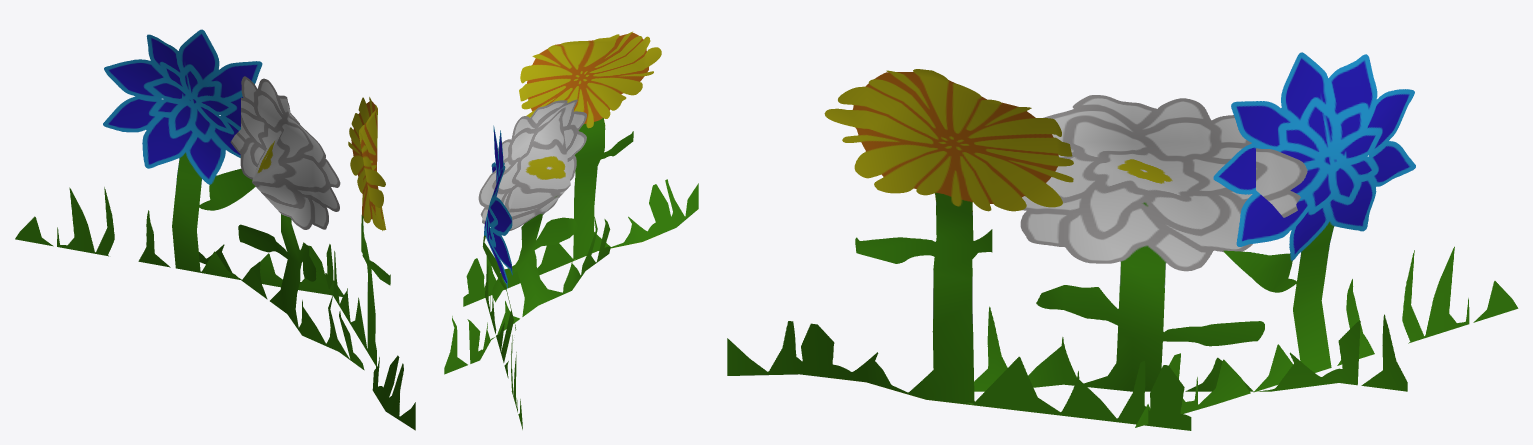
The model's file is Flower_Bed_3.fbx.
3 views of the same model, side by side, from view 1: azimuth 30°, elevation 25°; view 2: azimuth 150°, elevation 25°; view 3: azimuth 270°, elevation 25° (orthographic). The views are drawn at different scales.
Parts seen in each view (by area): view 1: Flower3, FlowerFive1, Flower6; view 2: Flower6, FlowerFive1, Flower3; view 3: FlowerFive1, Flower6, Flower3.
Boxes of the visible parts, x1,y1,x2,y2 form: Flower3: (15, 29, 343, 296); FlowerFive1: (199, 76, 364, 370); Flower6: (325, 97, 415, 430); Flower6: (463, 31, 698, 306); FlowerFive1: (444, 99, 610, 374); Flower3: (482, 125, 522, 429); FlowerFive1: (974, 95, 1407, 391); Flower6: (727, 69, 1191, 430); Flower3: (1135, 52, 1518, 427).
Size of the model in its own units: 0.6016 by 0.7515 by 1.64.
3 materials, 3 textured.
